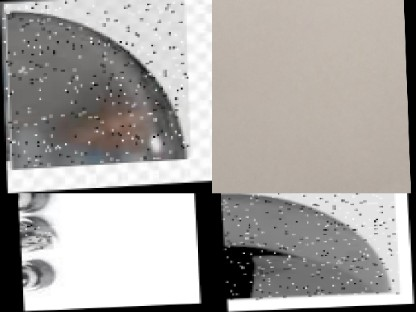ironball: (1, 0, 189, 166), (221, 193, 399, 300), (231, 167, 299, 193), (347, 166, 410, 193), (20, 260, 60, 301), (295, 170, 354, 193), (19, 221, 52, 249), (17, 193, 36, 215)
